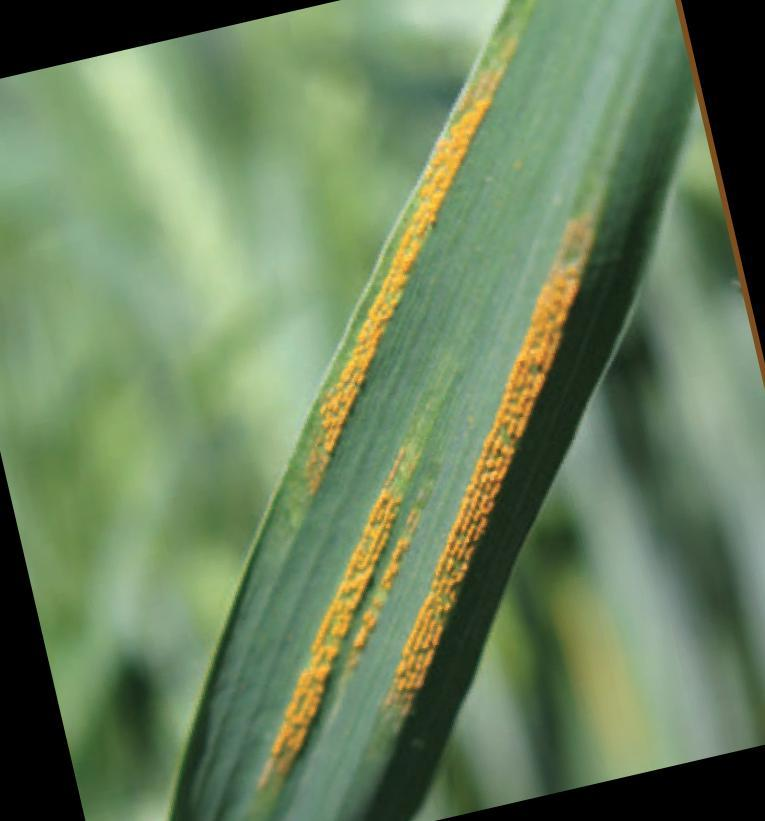Wheat: (366, 234, 598, 708), (266, 446, 438, 788)
